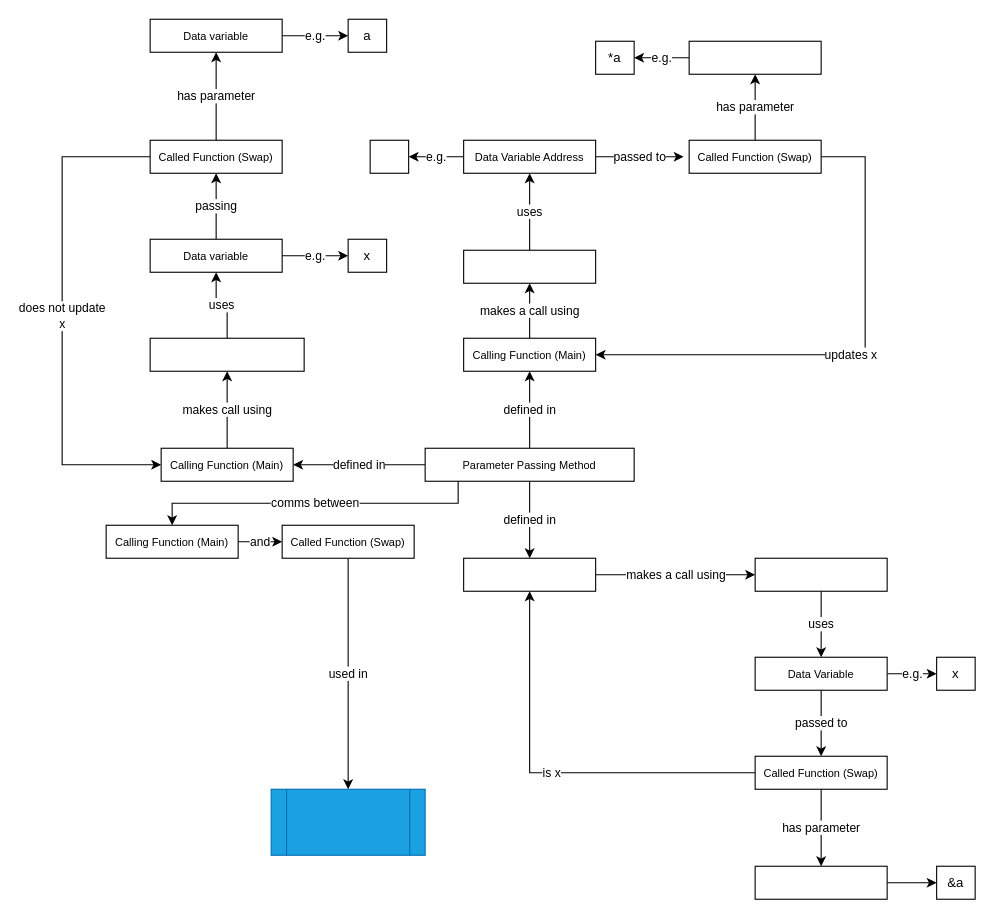
The diagram is 994 pixels wide and 919 high, and some of its shapes have lost their labels. The box of each missing label's shape, as (x1, y1, x2, y2) in pixels:
&x: (369, 139, 409, 173)
Calling Function(Main): (463, 557, 596, 591)
Data address variable: (754, 865, 887, 899)
NEXT Return Parameter Methods: (270, 788, 425, 855)
Passing by address: (463, 249, 596, 283)
Passing by reference: (754, 557, 887, 591)
Passing by value: (149, 337, 304, 371)
Pointer variable: (688, 40, 821, 74)
